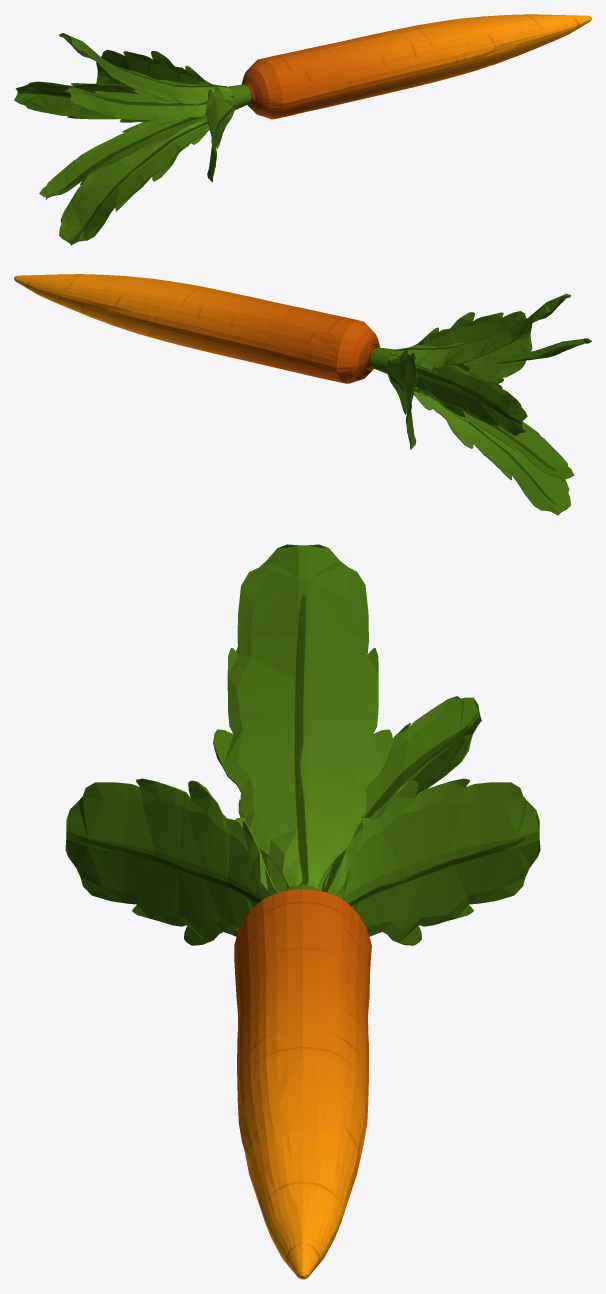
File: carrot1.fbx
The picture shows the model from 3 angles, top to bottom: view 1: azimuth 30°, elevation 25°; view 2: azimuth 150°, elevation 25°; view 3: azimuth 270°, elevation 25°; orthographic projection. The views are drawn at different scales.
Parts seen in each view (by area): view 1: body, leaf_4, leaf_6, leaf_5, leaf_2, leaf_7, leaf_3, leaf_1; view 2: body, leaf_7, leaf_4, leaf_1, leaf_2, leaf_6, leaf_3, leaf_5; view 3: body, leaf_2, leaf_1, leaf_3, leaf_7.
Part boxes in pixels (x1,y1,x2,y2): body: [227, 14, 591, 119]; leaf_4: [59, 120, 209, 245]; leaf_6: [39, 116, 206, 199]; leaf_5: [63, 87, 233, 123]; leaf_2: [59, 33, 232, 105]; leaf_7: [14, 81, 145, 122]; leaf_3: [96, 49, 212, 122]; leaf_1: [205, 87, 235, 182]; body: [14, 274, 394, 383]; leaf_7: [388, 356, 527, 435]; leaf_4: [413, 391, 570, 515]; leaf_1: [413, 311, 532, 383]; leaf_2: [389, 293, 570, 369]; leaf_6: [415, 387, 573, 480]; leaf_3: [387, 350, 417, 449]; leaf_5: [416, 338, 591, 366]; body: [234, 884, 371, 1279]; leaf_2: [213, 544, 393, 889]; leaf_1: [65, 778, 278, 945]; leaf_3: [327, 778, 540, 945]; leaf_7: [318, 696, 481, 892].
Bounding box in the file's own units: 566 × 207 × 215.
3 materials, 3 textured.
